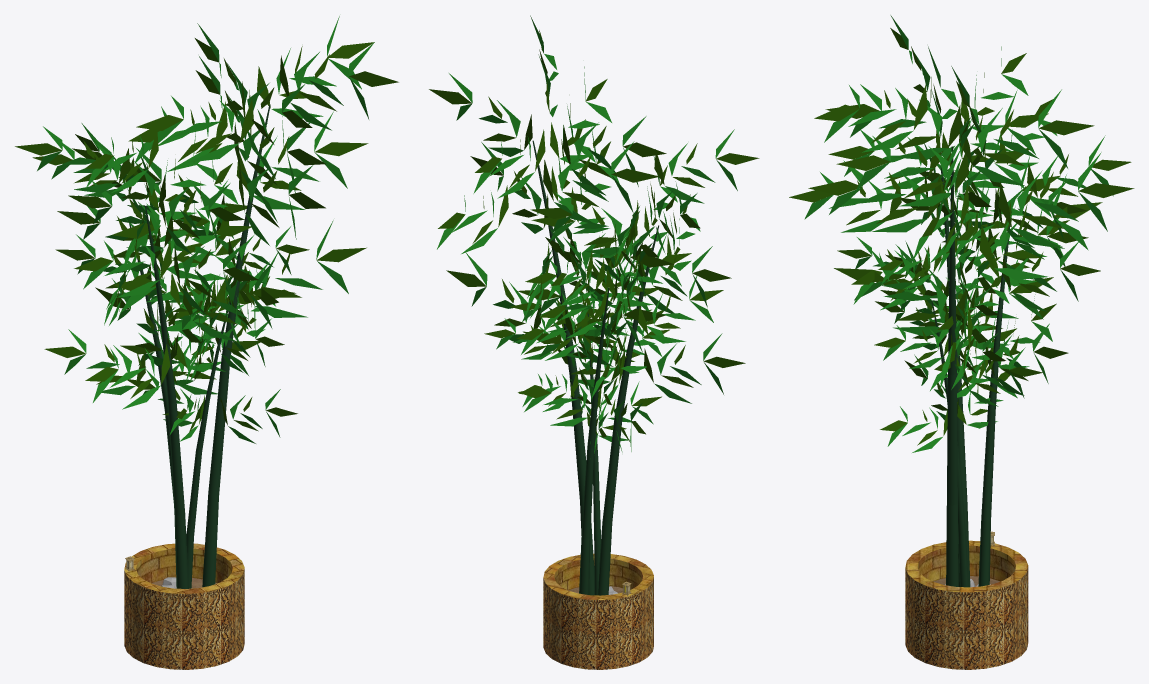
File: bamboo.glb
3 views of the same model, side by side, from view 1: azimuth 30°, elevation 25°; view 2: azimuth 150°, elevation 25°; view 3: azimuth 270°, elevation 25° (orthographic). The views are drawn at different scales.
Parts seen in each view (by area): view 1: Material2 (×5); view 2: Material2 (×5); view 3: Material2 (×5).
Part boxes in pixels (box(x1,y1,x2,y2)): Material2 (×5): box(15, 16, 398, 669); Material2 (×5): box(429, 15, 759, 669); Material2 (×5): box(789, 15, 1134, 669).
Bounding box in the file's own units: 109 × 194 × 97.42.
11 materials, 4 textured.
